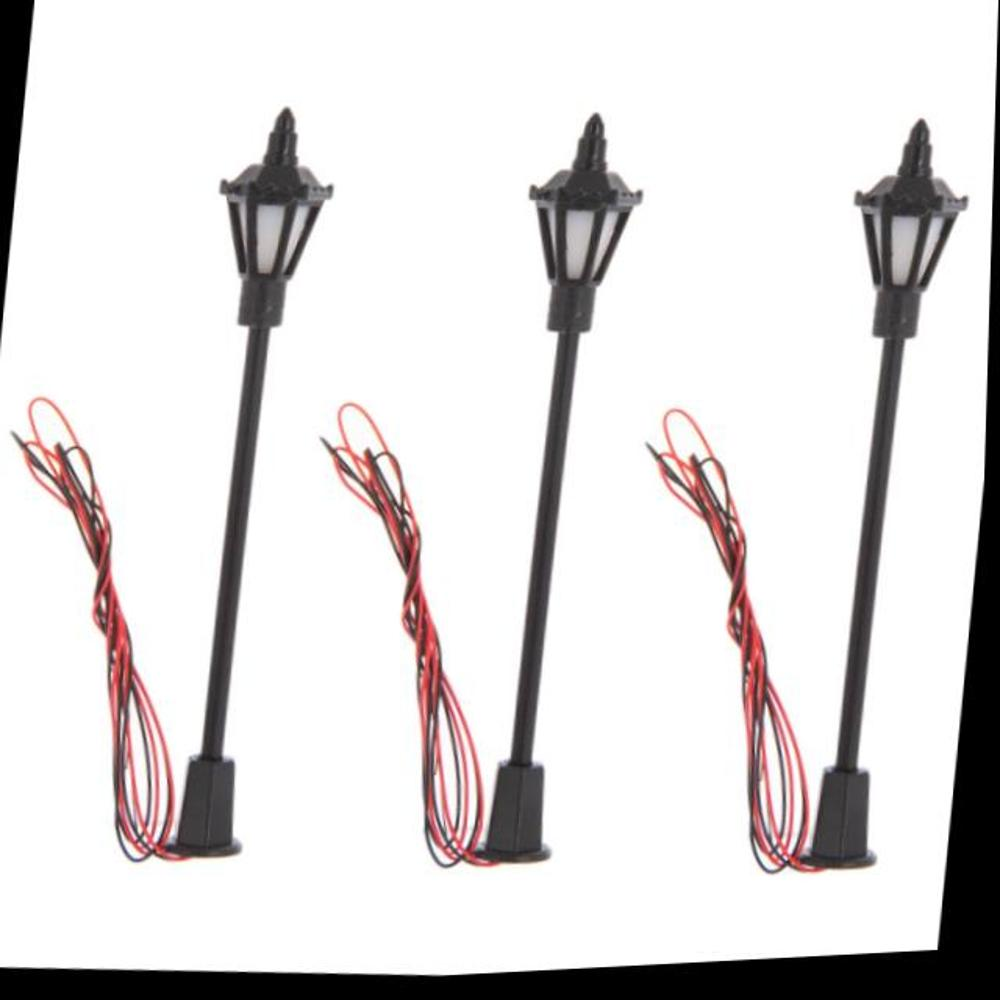shelf: (126, 74, 363, 878), (780, 101, 997, 885), (461, 88, 673, 880)
